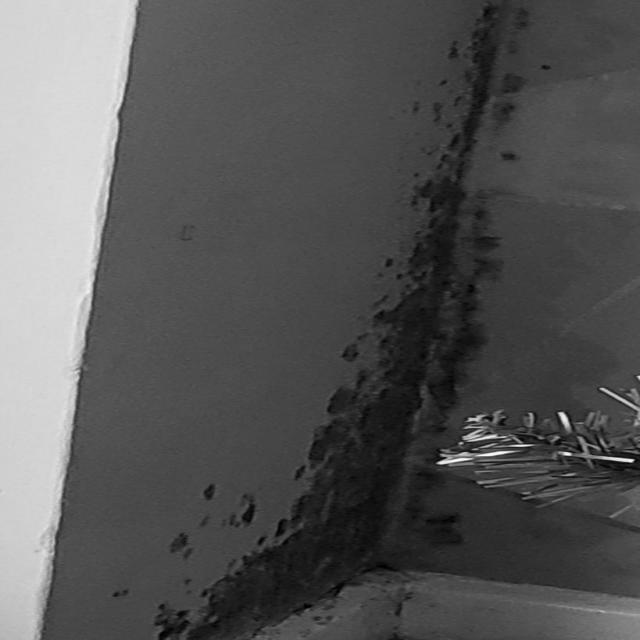stain marks: (370, 0, 536, 580), (101, 459, 309, 640), (295, 322, 376, 606)
